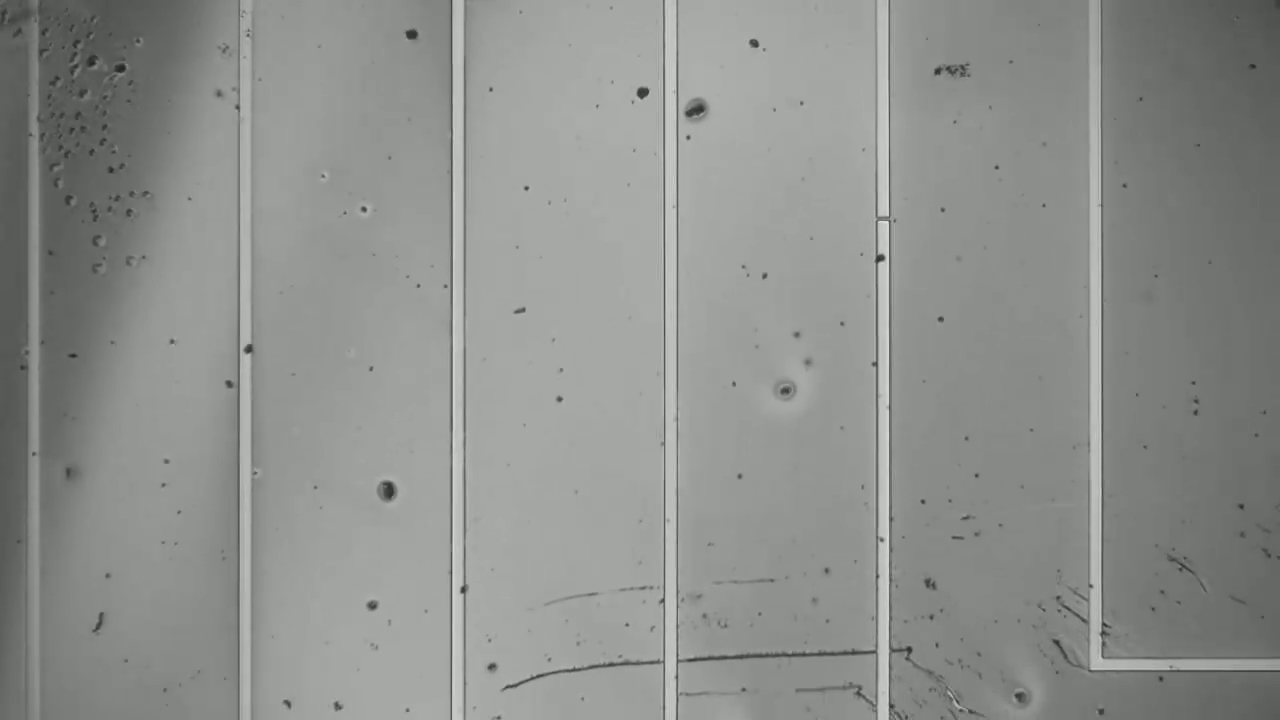open: (869, 202, 902, 231)
scratch: (499, 609, 913, 693), (1151, 524, 1224, 599), (1057, 594, 1129, 656)
stains_enbedded: (228, 339, 260, 363), (442, 575, 476, 597), (871, 248, 898, 274)
